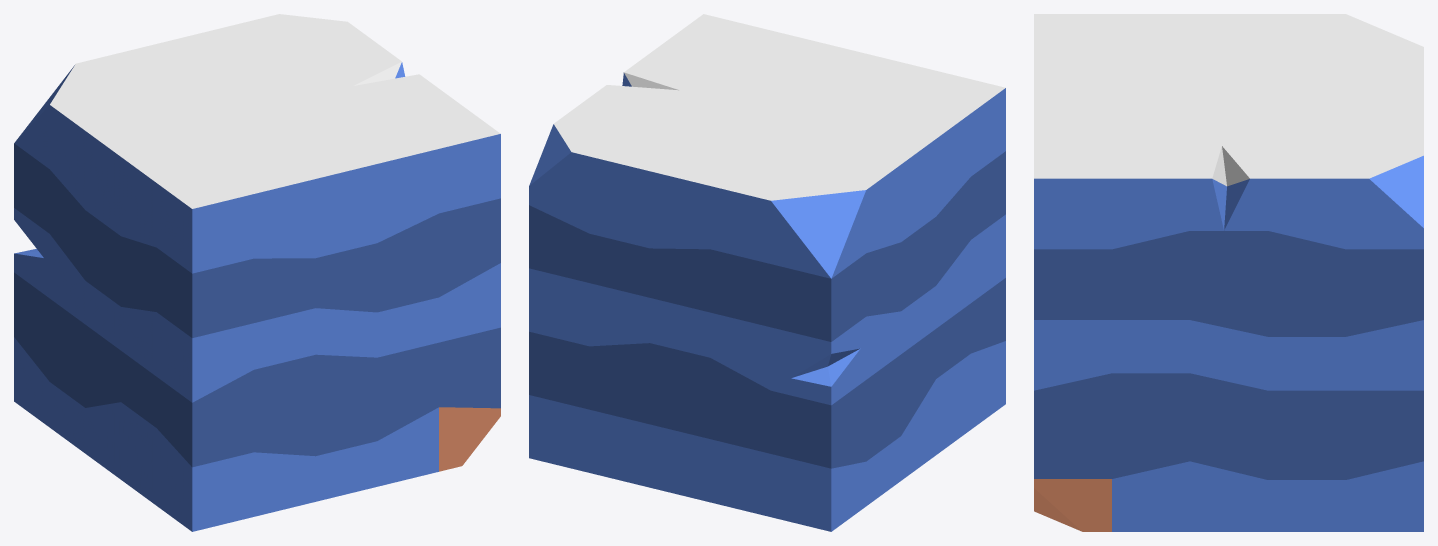
Rendered from Stone011.fbx.
The picture shows the model from 3 angles, left to right: view 1: azimuth 30°, elevation 25°; view 2: azimuth 150°, elevation 25°; view 3: azimuth 270°, elevation 25°; orthographic projection. The views are drawn at different scales.
Parts seen in each view (by area): view 1: Stone011; view 2: Stone011; view 3: Stone011.
Boxes of the visible parts, x1,y1,x2,y2 form: Stone011: [14, 14, 500, 531]; Stone011: [529, 14, 1005, 531]; Stone011: [1034, 14, 1423, 531].
Size of the model in its own units: 156 by 156 by 156.
